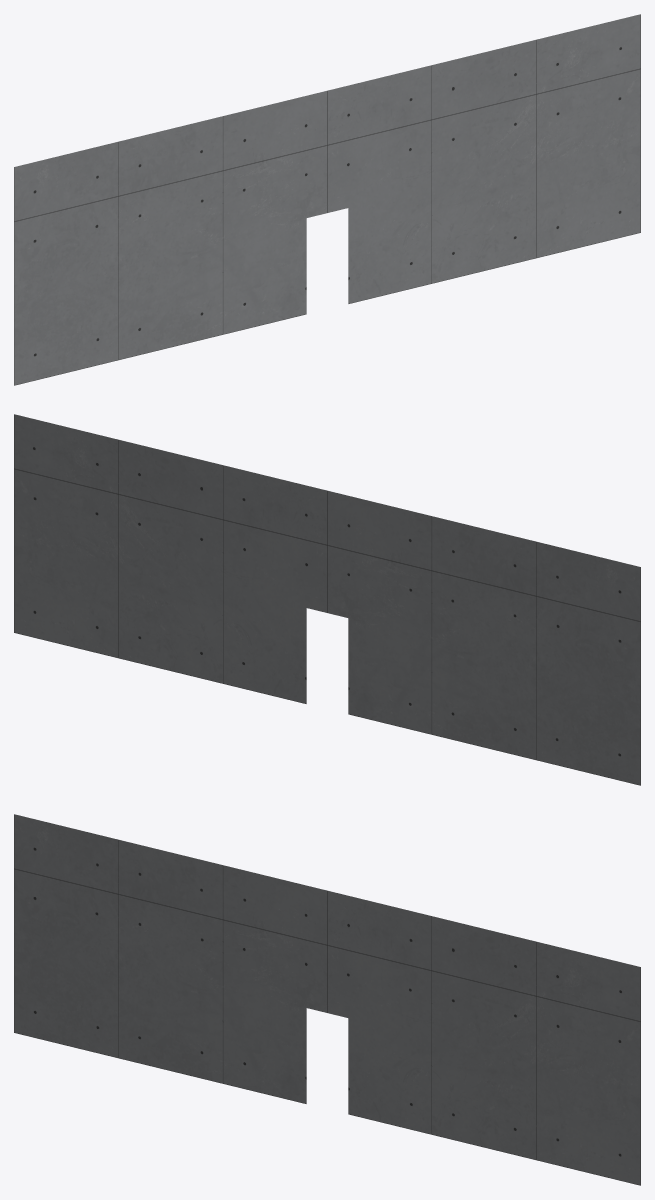
Rendered from SM06_Building_WallPanel_Interior_03_BottomDoor_01.fbx.
3 views of the same model, one above another, from view 1: azimuth 30°, elevation 25°; view 2: azimuth 150°, elevation 25°; view 3: azimuth 330°, elevation 25° (orthographic).
Visible parts, largest first — view 1: SM06_Building_WallPanel_Interior_03_BottomDoor_01; view 2: SM06_Building_WallPanel_Interior_03_BottomDoor_01; view 3: SM06_Building_WallPanel_Interior_03_BottomDoor_01.
Boxes of the visible parts, bbox=[...] form: SM06_Building_WallPanel_Interior_03_BottomDoor_01: bbox=[14, 14, 640, 385]; SM06_Building_WallPanel_Interior_03_BottomDoor_01: bbox=[14, 414, 640, 785]; SM06_Building_WallPanel_Interior_03_BottomDoor_01: bbox=[14, 814, 640, 1185].
Size of the model in its own units: 15 by 5 by 5.68e-06.
